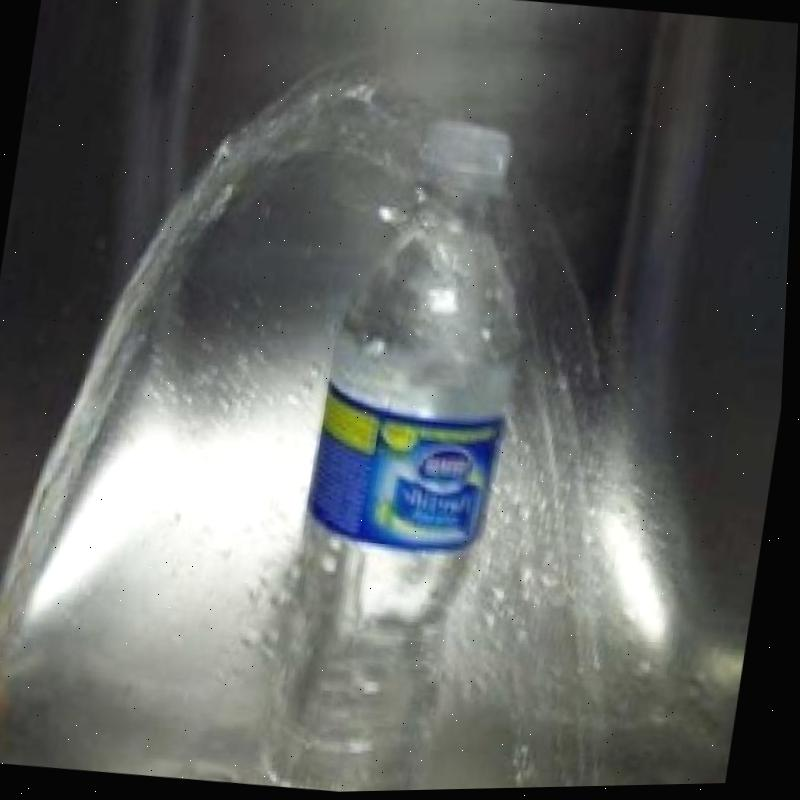botella: (256, 102, 558, 745)
